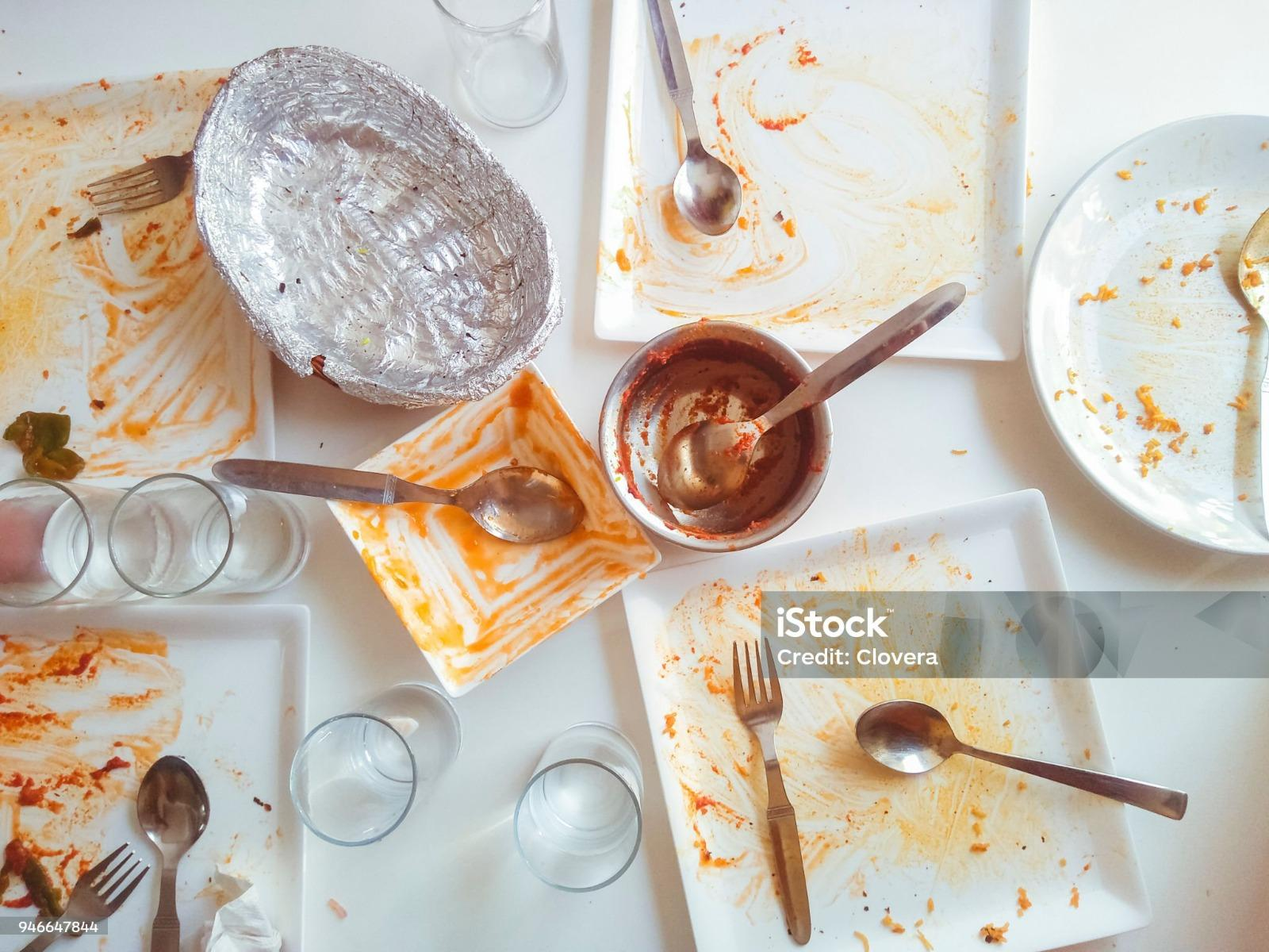Messy Table: (3, 3, 1264, 952)
